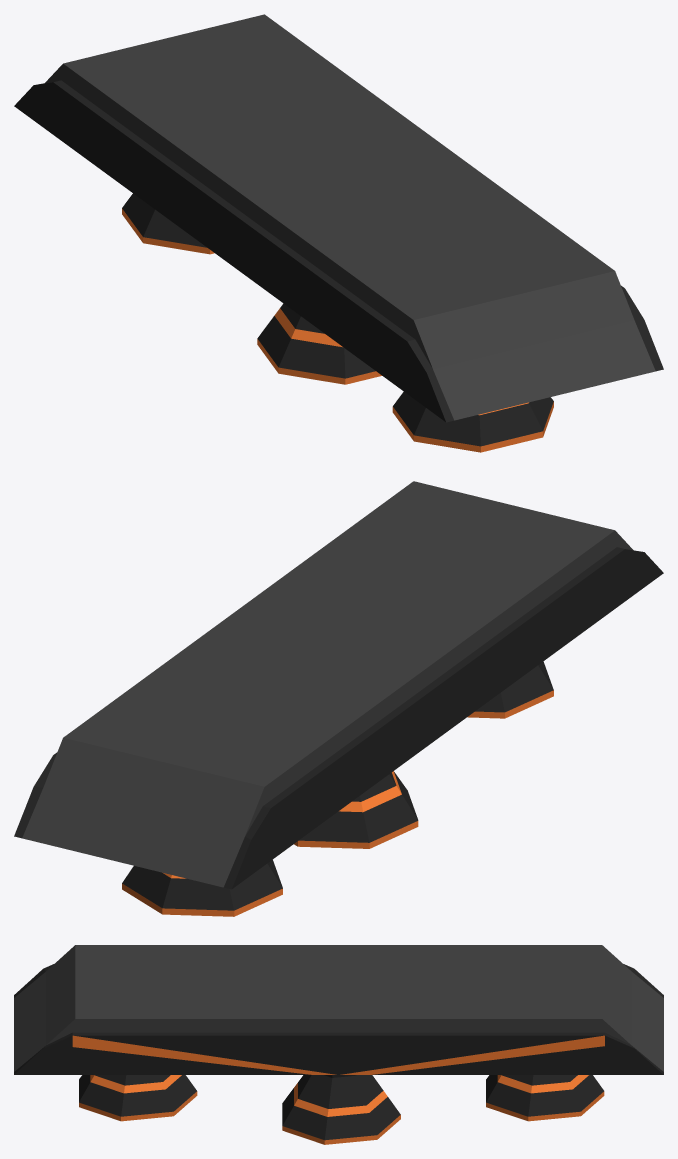
The model's file is model-scenario-plataform-typeA-large.fbx.
3 renders of one model, top to bottom at view 1: azimuth 30°, elevation 25°; view 2: azimuth 150°, elevation 25°; view 3: azimuth 270°, elevation 25°, orthographic. The views are drawn at different scales.
Visible parts, largest first — view 1: mesh; view 2: mesh; view 3: mesh.
Boxes of the visible parts, left/top/right/bottom form: mesh: left=14, top=14, right=663, bottom=452; mesh: left=14, top=481, right=663, bottom=916; mesh: left=14, top=945, right=663, bottom=1144.
Bounding box in the file's own units: 7.39 × 2.15 × 1.72.
